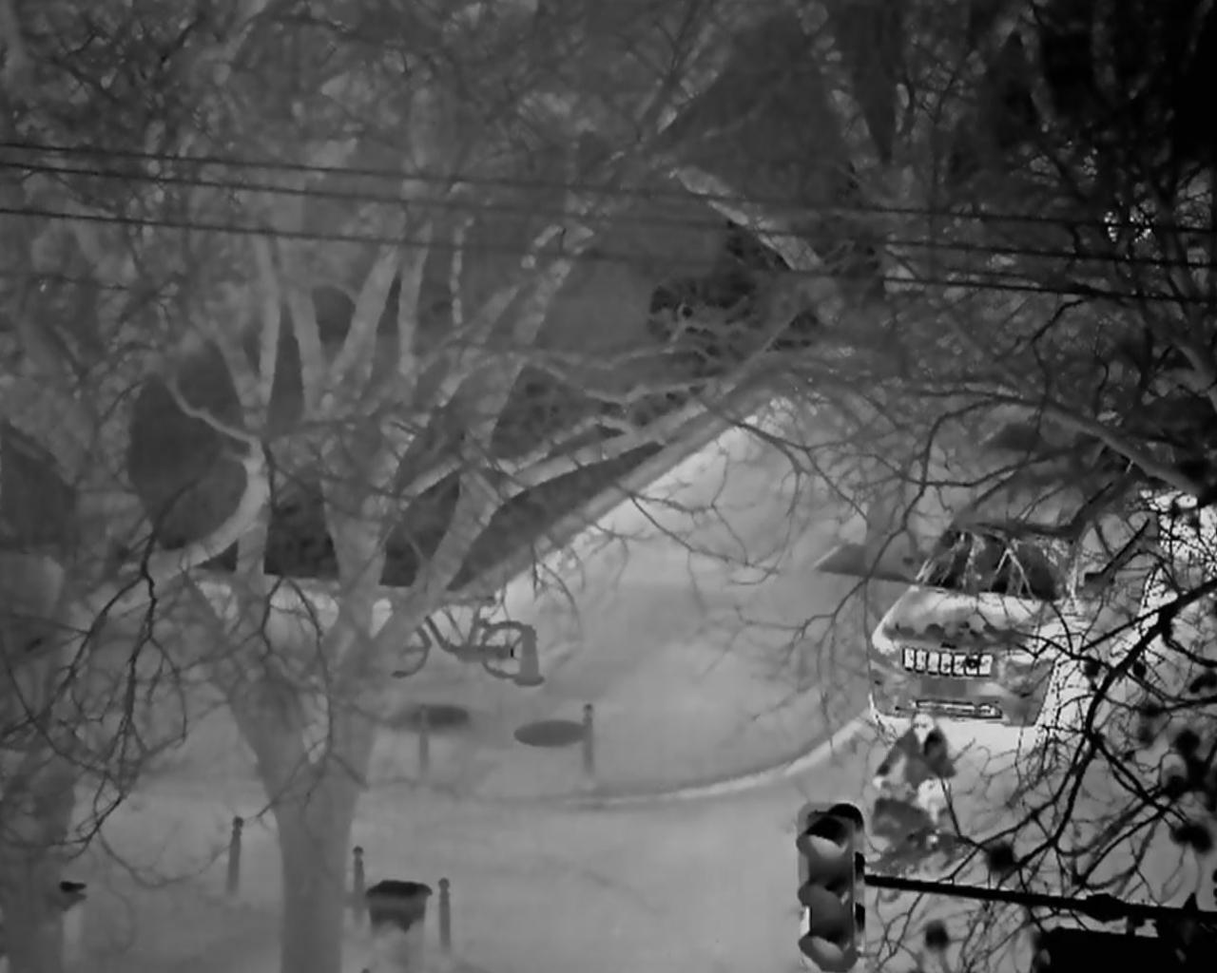person: (872, 709, 956, 844)
